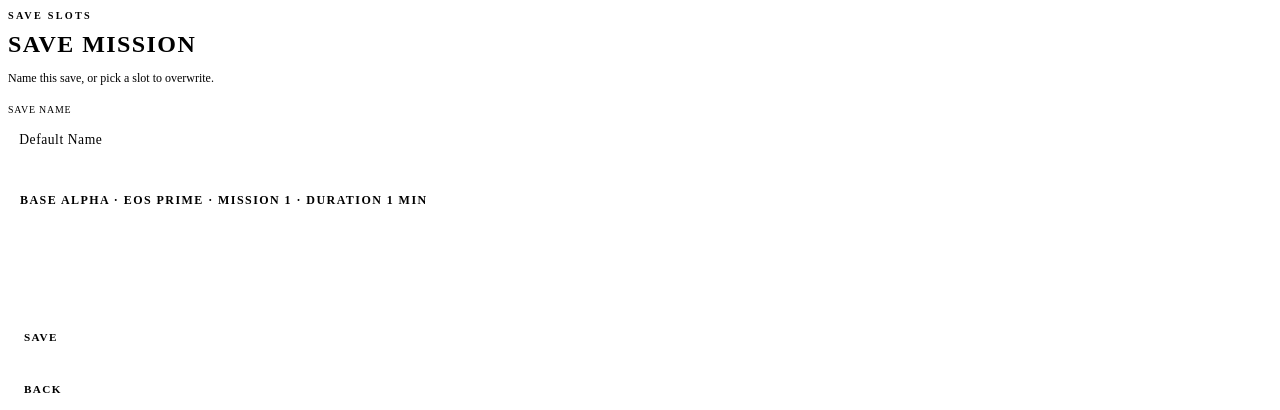
it: PauseSaveSlots › toggles slot selection when clicking the already-selected slot
The width and height of the screenshot is (1280, 410).
What coordinates should you click on to do the following:
click the button with aria-label "Select Base Alpha"
I would click on:
 (224, 200)
Its box is [8,179,1238,223].
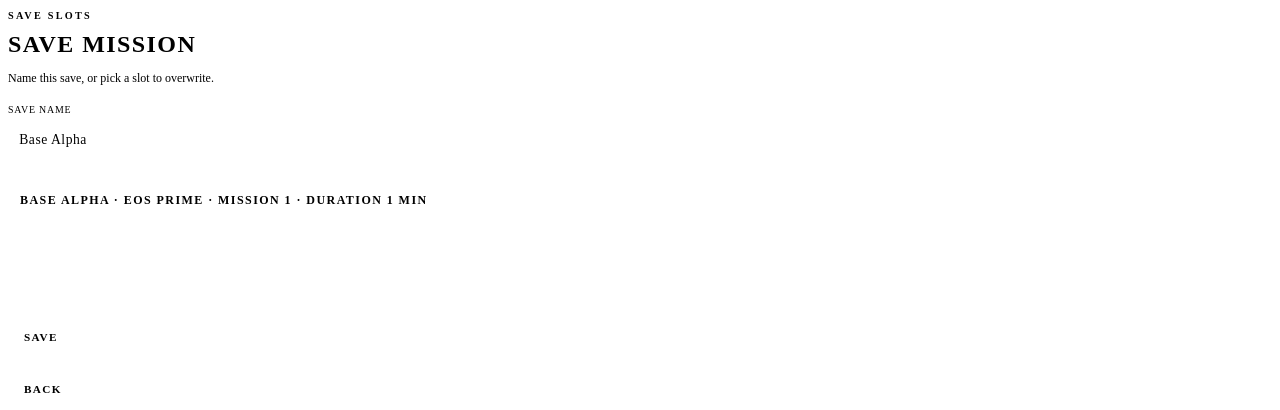
Expected: the field named "Save slot name" holds "Base Alpha", [8,120,1272,159]
# Click again to toggle off
What coordinates should you click on to do the following:
click the button with aria-label "Select Base Alpha"
I would click on:
 (224, 200)
Its box is [8,179,1238,223].
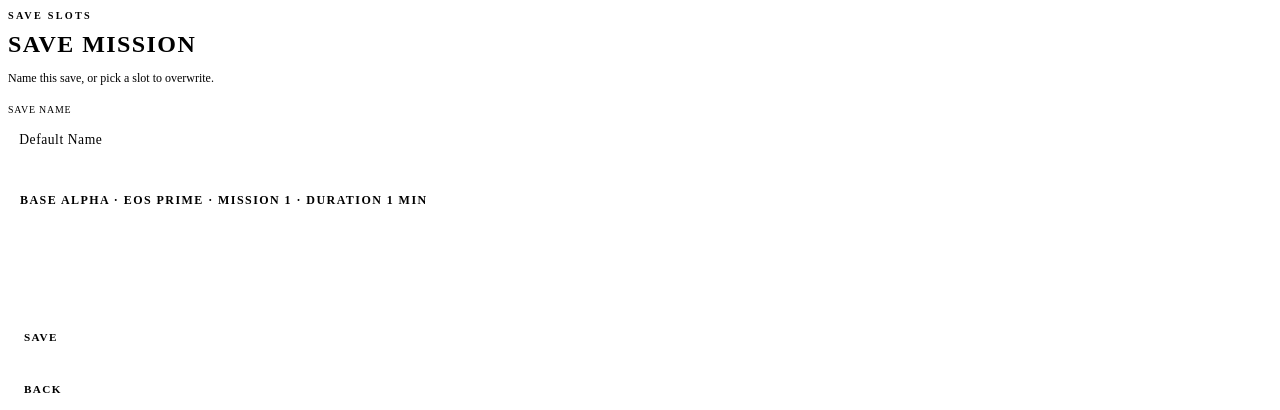
Expected: the field named "Save slot name" holds "Default Name", [8,120,1272,159]
